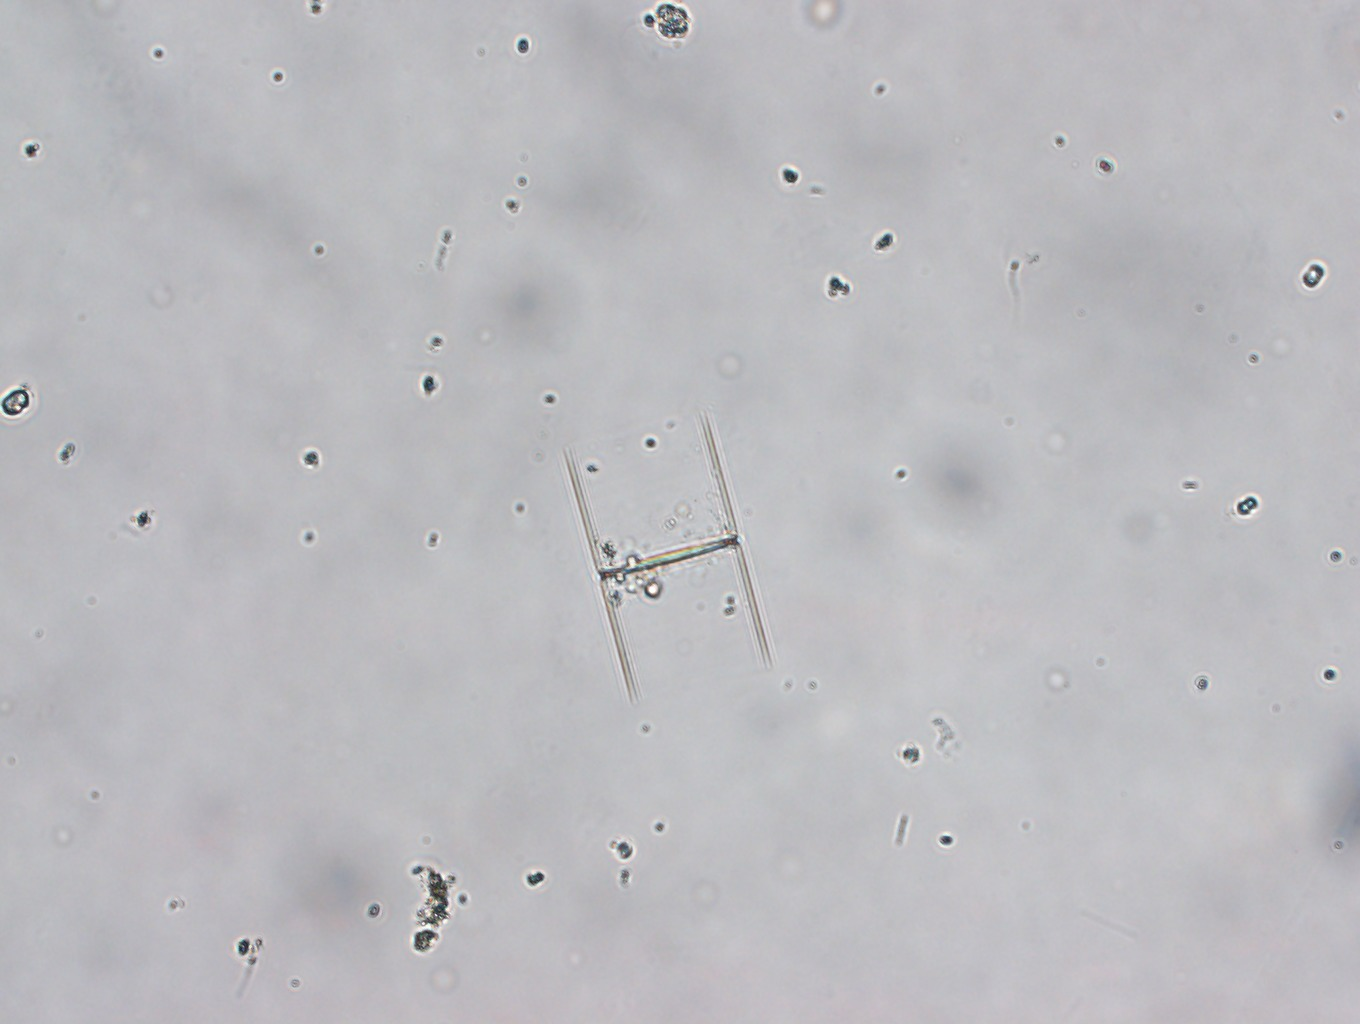guinardia flaccida: (561, 407, 771, 702)
